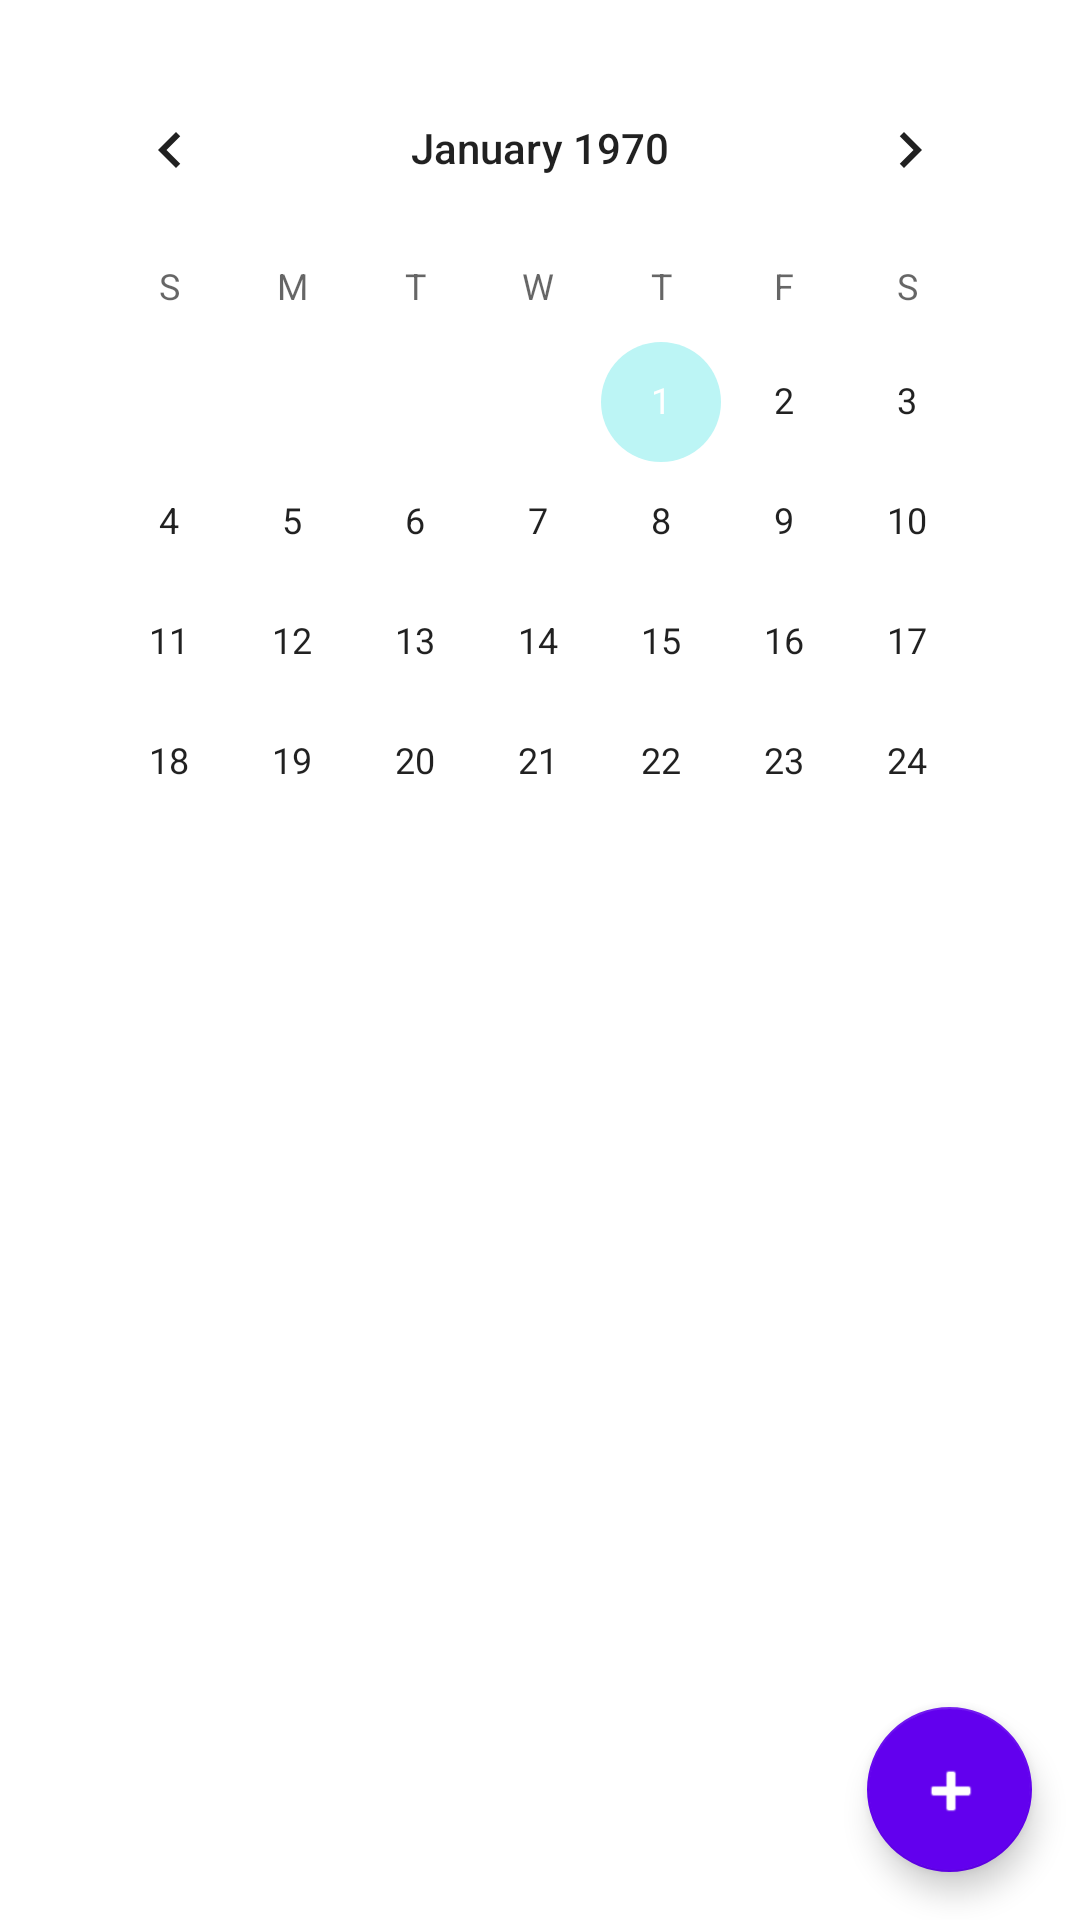

Icon bounding boxes for this 1080w x 1920h phone screenshot, format bbox=(x1, y1, x2, y2):
Add Task: bbox=(867, 1707, 1032, 1872)
